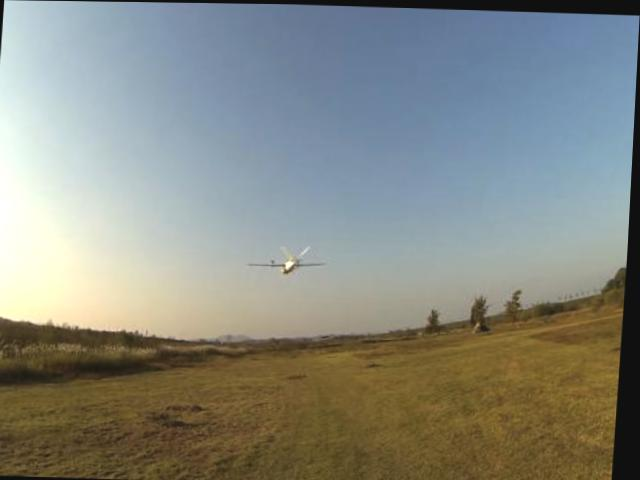uav: (242, 231, 337, 288)
